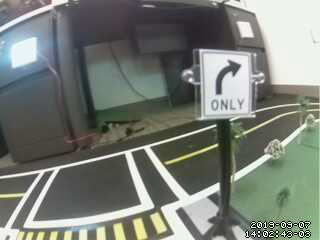Right_only_sign: (199, 51, 247, 115)
